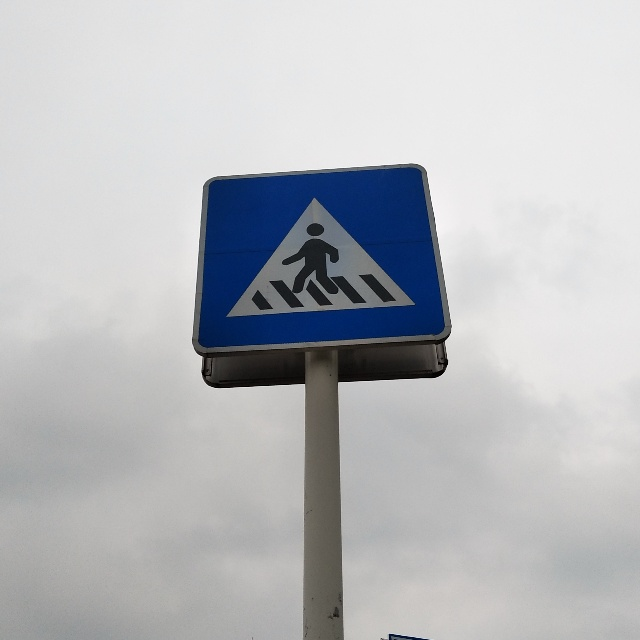crosswalk: (191, 163, 458, 361)
